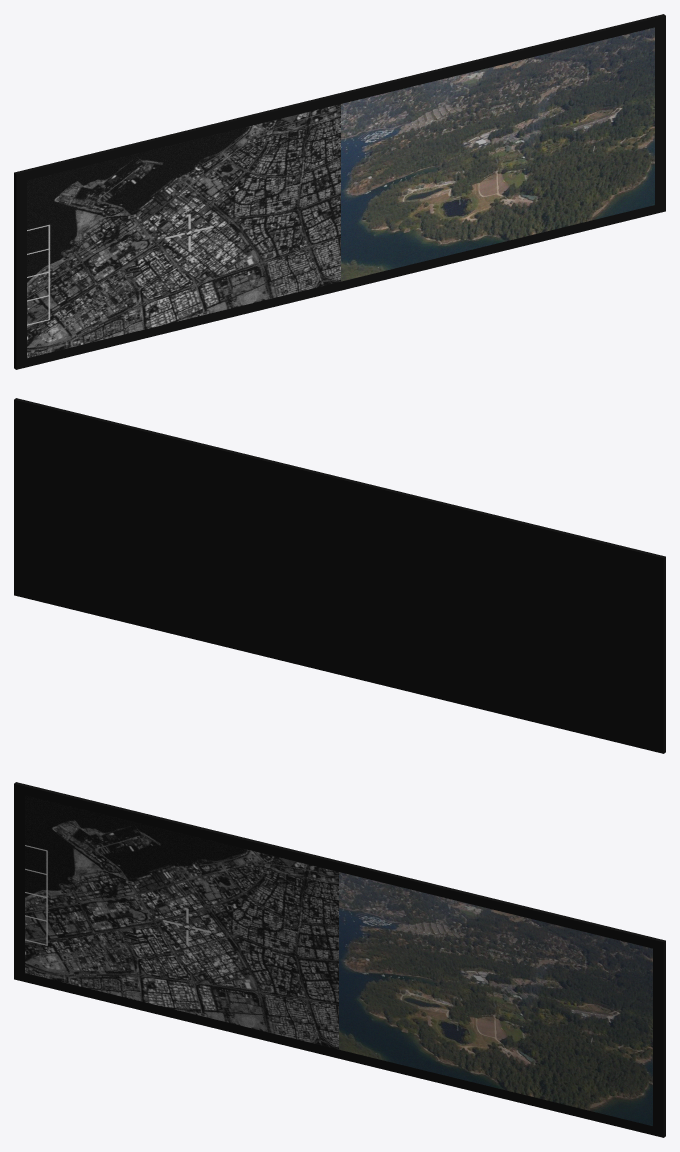
File: main_screen.DAE
The picture shows the model from 3 angles, top to bottom: view 1: azimuth 30°, elevation 25°; view 2: azimuth 150°, elevation 25°; view 3: azimuth 330°, elevation 25°; orthographic projection.
Visible parts, largest first — view 1: main_screen001; view 2: main_screen001; view 3: main_screen001.
Boxes of the visible parts, x1,y1,x2,y2 form: main_screen001: (14, 14, 665, 369); main_screen001: (14, 398, 665, 753); main_screen001: (14, 782, 665, 1137).
Size of the model in its own units: 446 by 2.63 by 128.
Materials: 9 (8 with a texture image).
